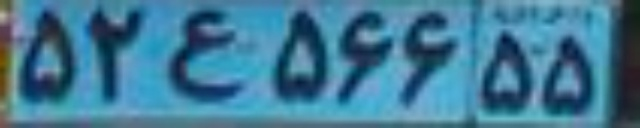2: (84, 7, 140, 102)
5: (15, 9, 77, 102), (270, 9, 328, 104), (537, 32, 594, 114), (479, 31, 533, 113)
6: (335, 8, 396, 104), (400, 8, 460, 105)
ain: (163, 8, 247, 102)
